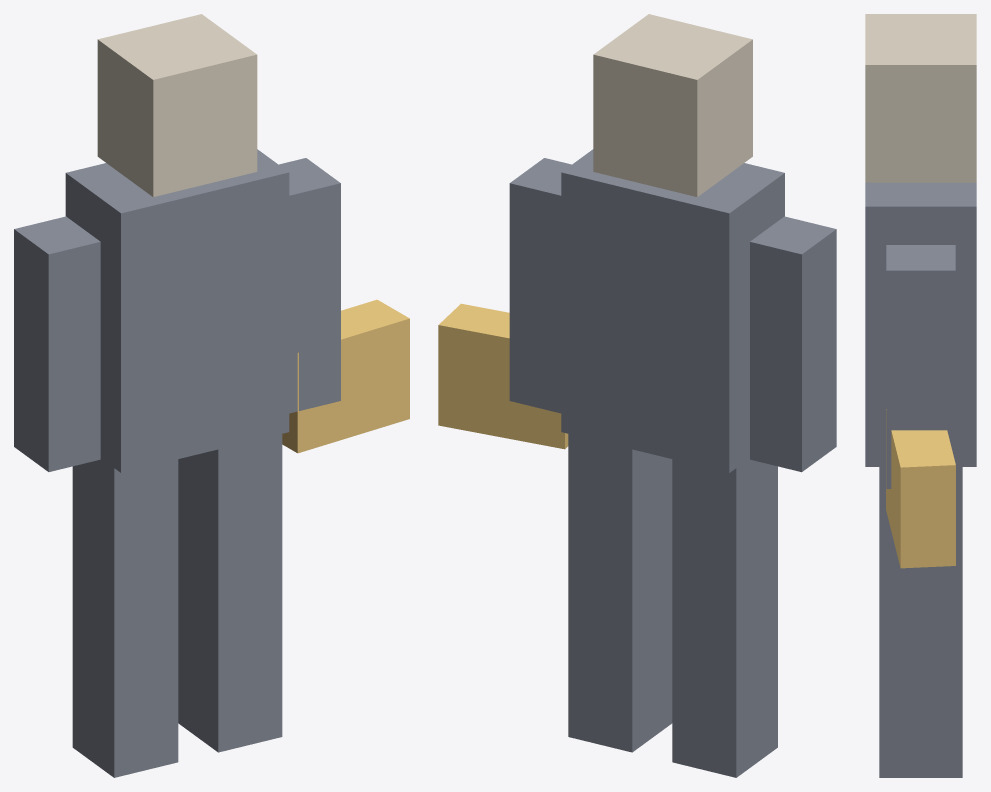
The model's file is npc_standard.glb.
The picture shows the model from 3 angles, left to right: view 1: azimuth 30°, elevation 25°; view 2: azimuth 150°, elevation 25°; view 3: azimuth 270°, elevation 25°; orthographic projection.
Parts seen in each view (by area): view 1: rumpf, bein_links, bein_rechts, kopf, arm_links, arm_rechts, tasche; view 2: rumpf, bein_links, bein_rechts, kopf, arm_links, arm_rechts, tasche; view 3: bein_rechts, kopf, rumpf, arm_rechts, tasche.
Part boxes in pixels (x1,y1,x2,y2): rumpf: (65, 149, 289, 472); bein_links: (72, 458, 178, 777); bein_rechts: (178, 434, 282, 752); kopf: (97, 14, 257, 197); arm_links: (14, 216, 100, 471); arm_rechts: (279, 158, 340, 413); tasche: (282, 299, 409, 453); rumpf: (561, 149, 784, 472); bein_links: (672, 458, 777, 777); bein_rechts: (568, 434, 672, 752); kopf: (593, 14, 752, 197); arm_links: (750, 216, 836, 472); arm_rechts: (509, 158, 571, 413); tasche: (438, 303, 568, 449); bein_rechts: (879, 467, 962, 777); kopf: (865, 14, 976, 182); rumpf: (865, 182, 976, 466); arm_rechts: (886, 245, 955, 488); tasche: (886, 409, 955, 568).
Size of the model in its own units: 0.9205 by 1.66 by 0.24.
